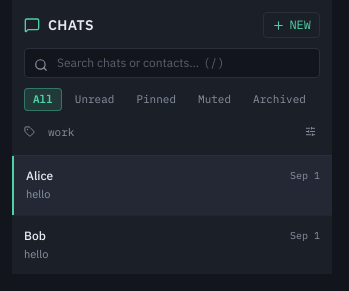
Test: ChatList tag filter › clears the filter when the active tag is clicked again
Click the button "work" at {"x": 61, "y": 132}, box [39,120,83,143]
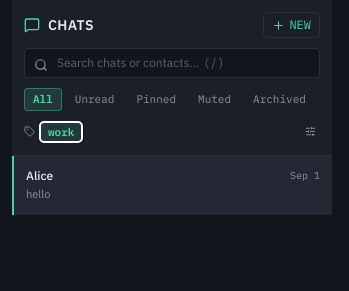
Check: the button "Bob" is gone
Click the button "work" at {"x": 61, "y": 132}, box [39,120,83,143]
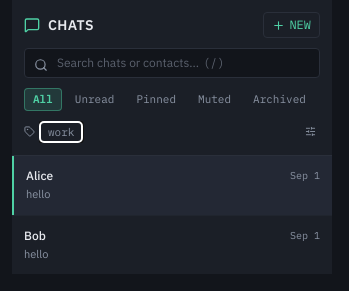
Check: the text "Bob" is shown, box [24,228,46,244]
